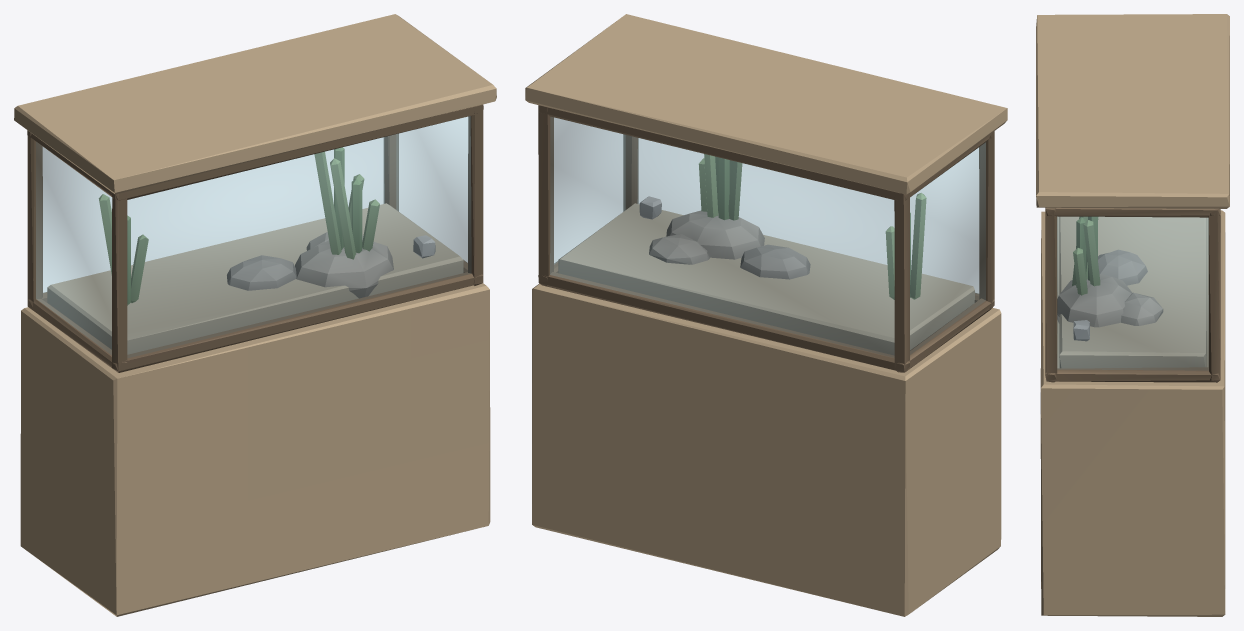
Rendered from furn_fish_tank__oak_low.glb.
3 renders of one model, left to right at view 1: azimuth 30°, elevation 25°; view 2: azimuth 150°, elevation 25°; view 3: azimuth 270°, elevation 25°, orthographic. The views are drawn at different scales.
Bounding box in the file's own units: 0.92 × 1.01 × 0.4154.
